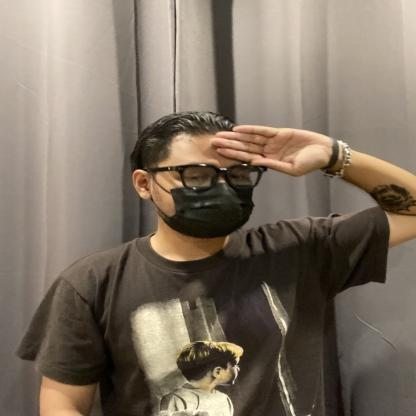Sick: (104, 109, 356, 234)
